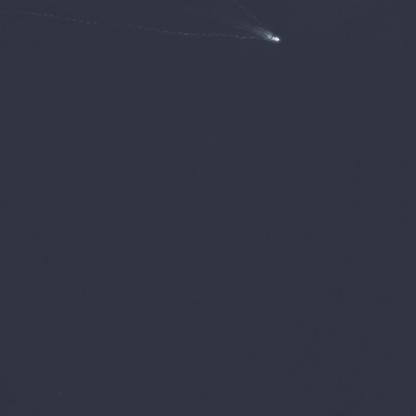ship: (269, 32, 279, 44)
